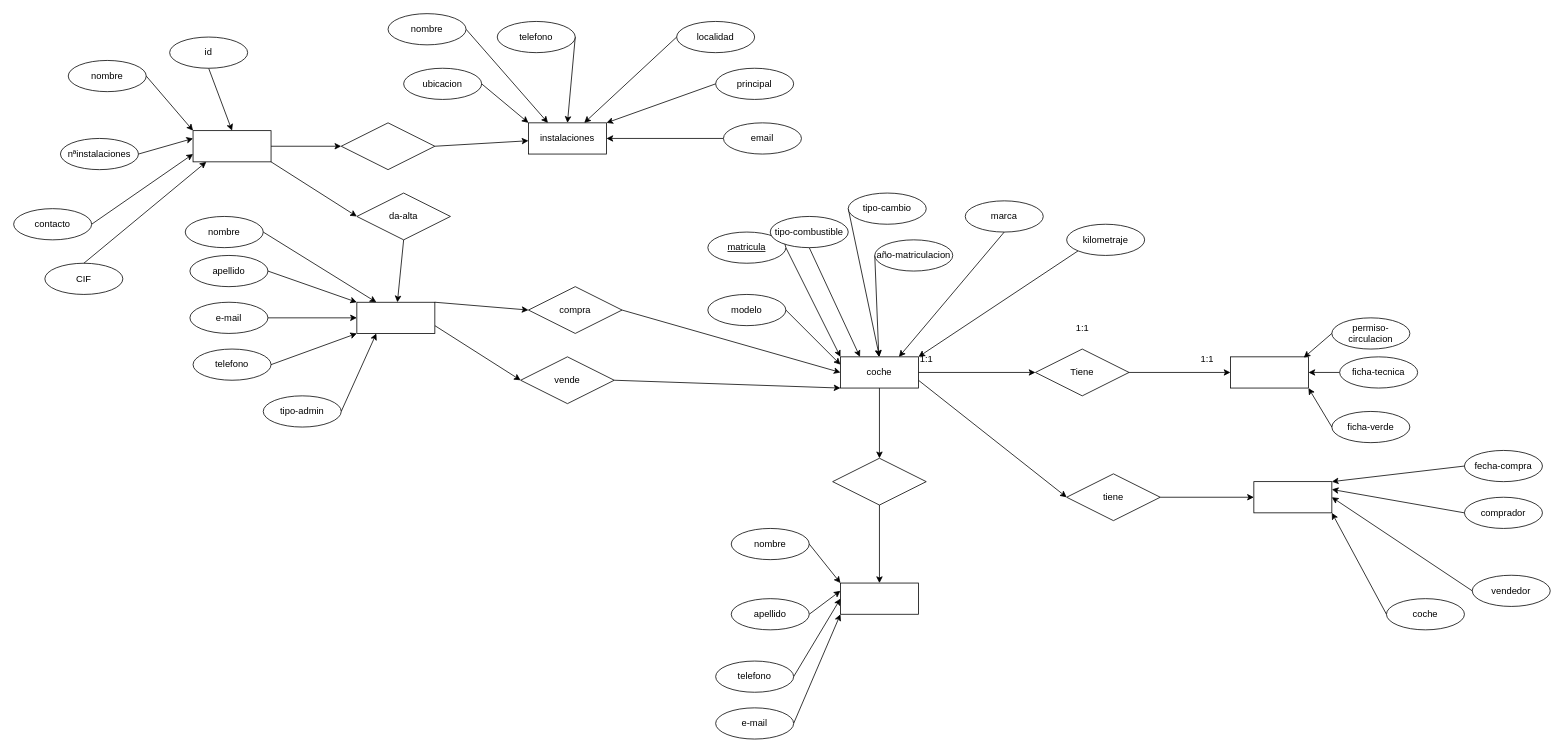
Image size: 1564x753. Some labels were removed from this diagram. The box of each missing label's shape, as (x1, y1, x2, y2) in pixels:
documentacion: (1230, 356, 1308, 388)
empresas: (192, 130, 271, 162)
historico: (1253, 481, 1332, 513)
pertenece: (832, 457, 926, 505)
poseen: (340, 122, 435, 170)
propietario: (840, 582, 918, 614)
usuaio: (356, 301, 435, 333)
